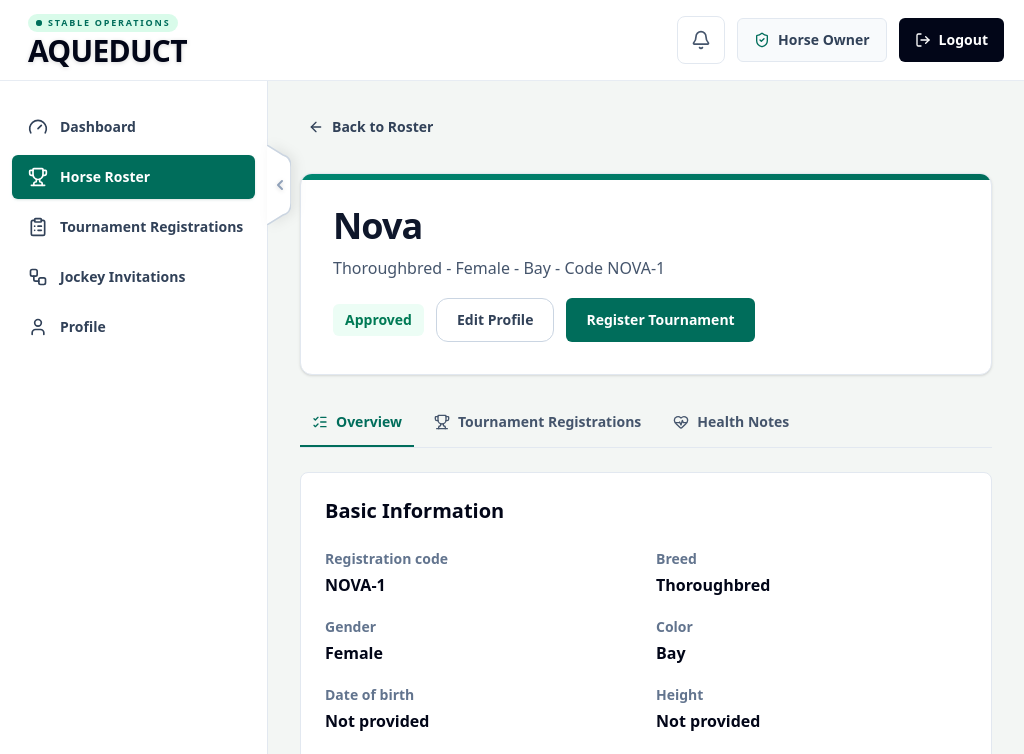
it: OwnerHorseProfilePage › opens the edit profile panel, edits horse details, and saves changes
expect the heading "Nova" is shown: met, box x1=333 y1=201 x2=422 y2=250
// Click Edit Profile button
Click the button "Edit Profile" at point(495, 320), box x1=436 y1=298 x2=554 y2=342
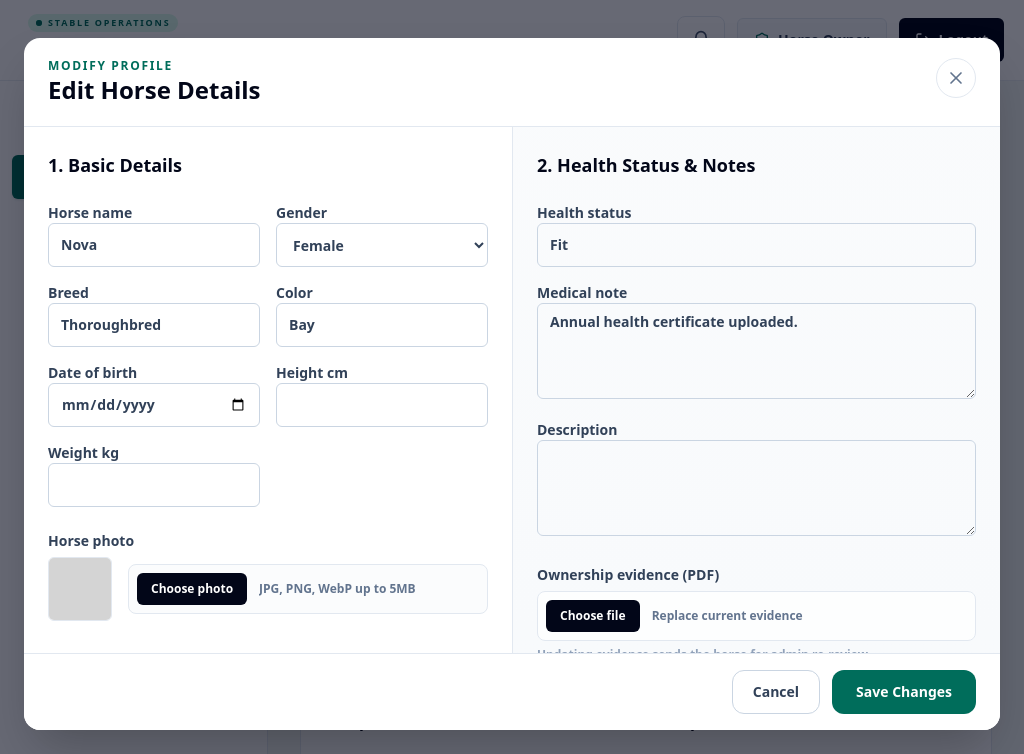
expect the heading "Edit Horse Details" is shown: met, box x1=48 y1=74 x2=260 y2=106
expect the field labelled "Horse name" holds "Nova": met
expect the field labelled "Breed" holds "Thoroughbred": met, box x1=48 y1=303 x2=260 y2=347
Replace the text in the field labelled "Horse name" with "Super Nova" at point(154, 245), box x1=48 y1=223 x2=260 y2=267
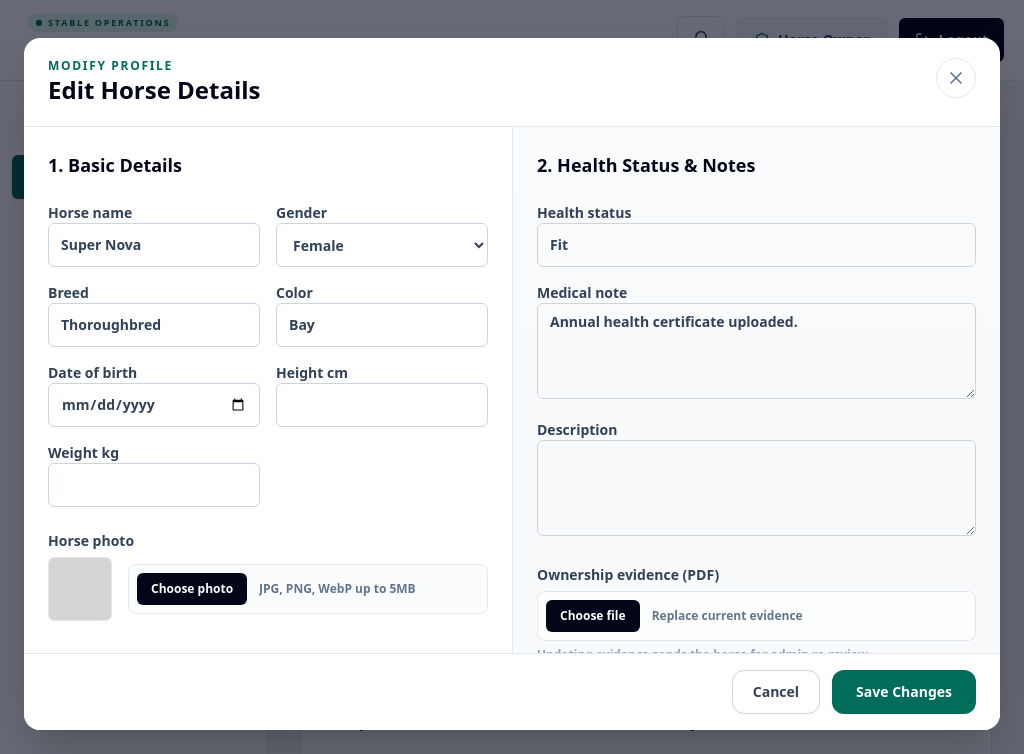
Replace the text in the field labelled "Breed" with "Quarter Horse" at point(154, 325), box x1=48 y1=303 x2=260 y2=347
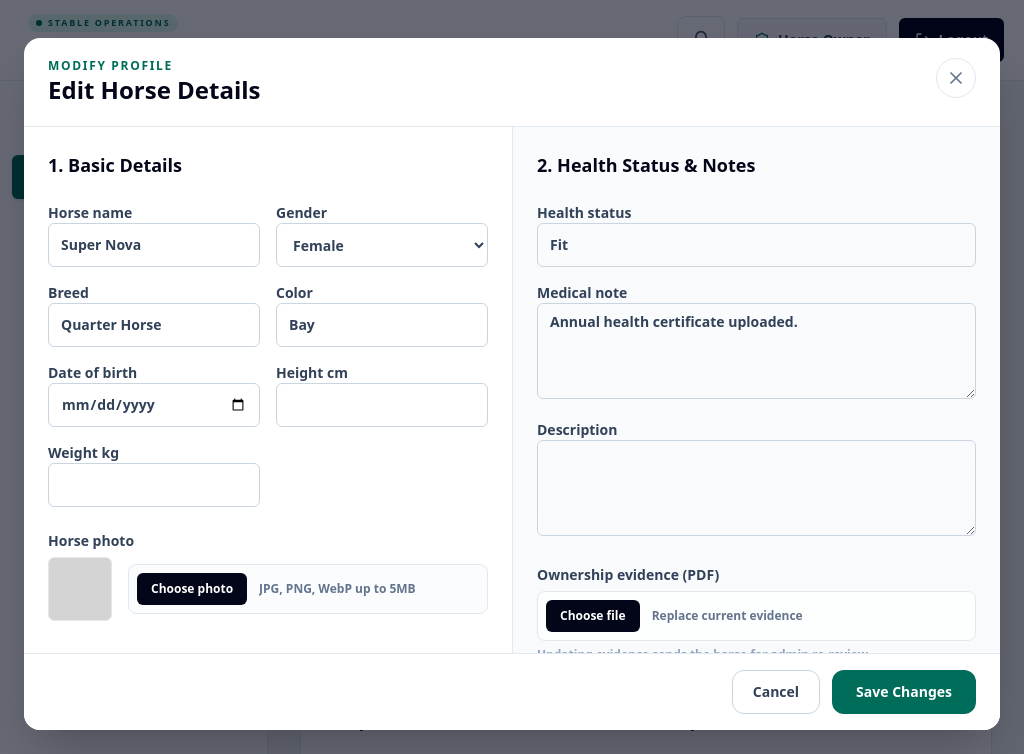
Click the button "Save Changes" at point(904, 692), box x1=832 y1=670 x2=976 y2=714
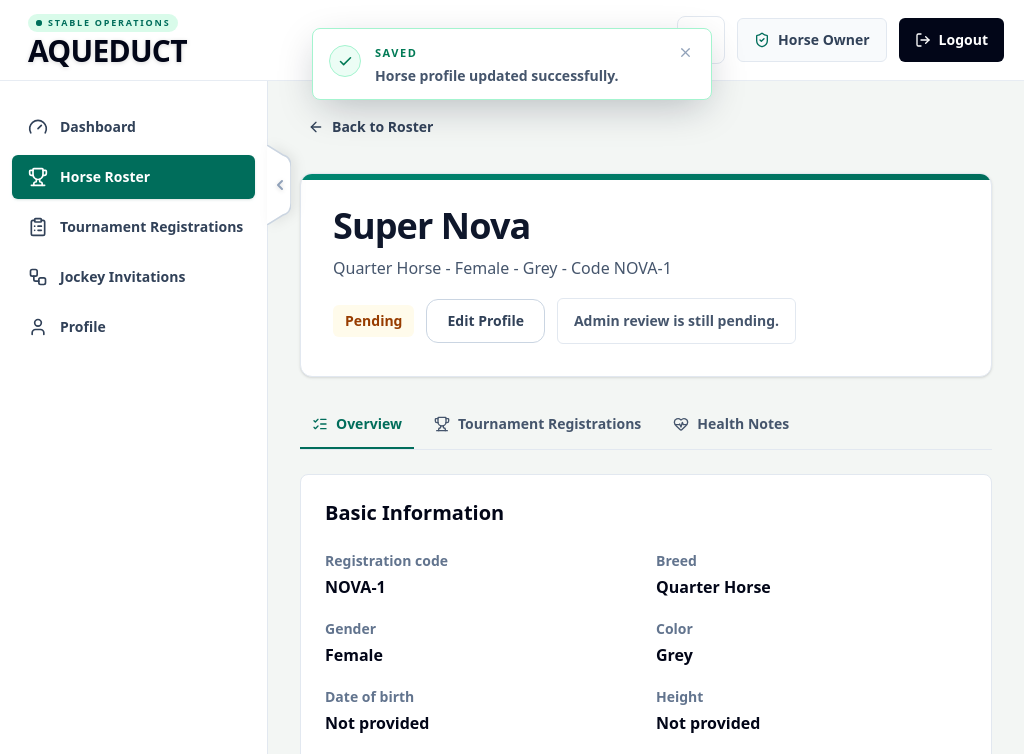
expect the heading "Super Nova" is shown: met, box x1=333 y1=201 x2=530 y2=250
expect the text "Horse profile updated successfully." is shown: met, box x1=375 y1=66 x2=658 y2=85
expect the heading "Edit Horse Details" is gone: met
